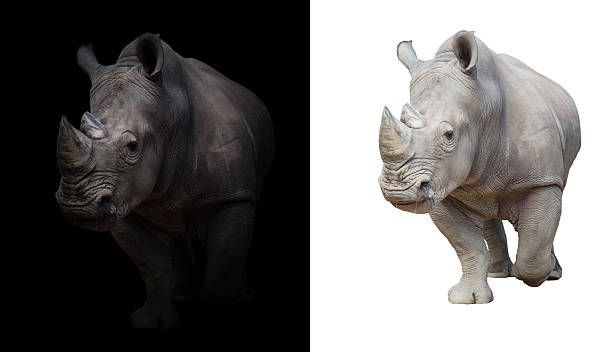rhino: (353, 16, 511, 226)
